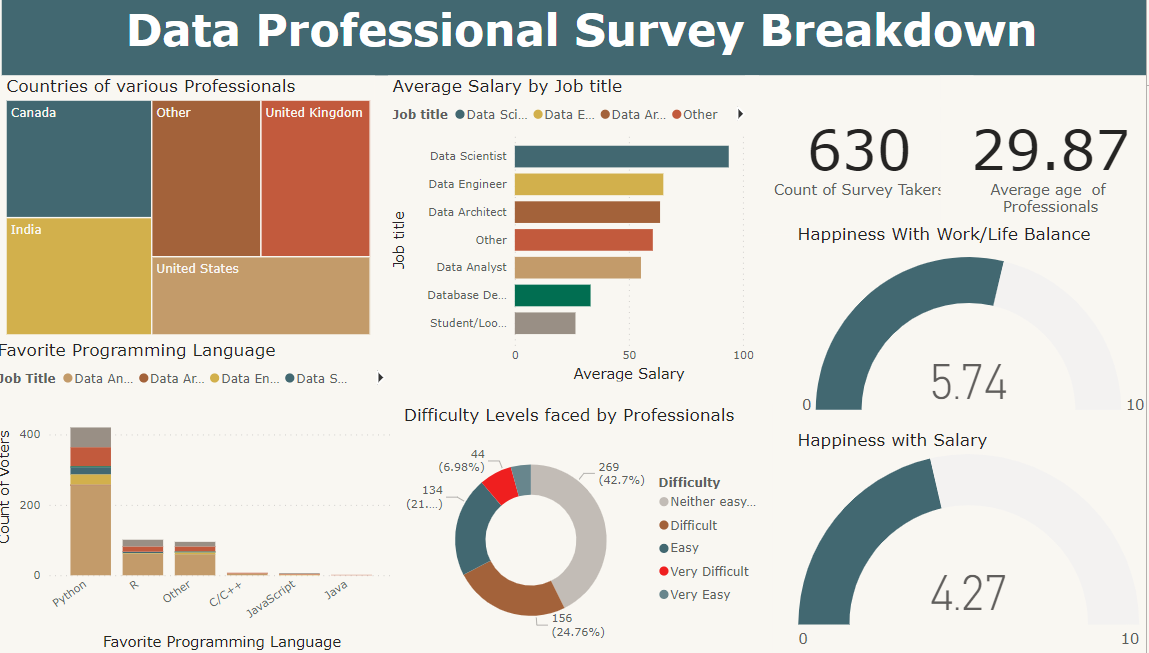

This screenshot's page, from the dashboard's own definition file:
{"tool":"powerbi","page":{"name":"Page 1","canvas":[1280,720],"ordinal":0},"visuals":[{"type":"textbox","box":[9.6,0,1270.7,85.1],"z":0},{"type":"card","fields":{"Values":["Count(Data Professional Survey.Unique ID)"]},"box":[824.7,85.1,249.7,174.3],"z":1000},{"type":"card","fields":{"Values":["Avg(Data Professional Survey.Q10 - Current Age)"]},"box":[1038.8,85.1,241.5,174.3],"z":2000},{"type":"barChart","title":"Average Salary by Job title","fields":{"Category":["Data Professional Survey.Q1 - Which Title Best Fits your Current Role?.1"],"Y":["Avg(Data Professional Survey.Average Salary)"],"Series":["Data Professional Survey.Q1 - Which Title Best Fits your Current Role?.1"]},"box":[432.2,85.1,406.2,340.3],"z":3000},{"type":"columnChart","title":"Favorite Programming Language","fields":{"Category":["Data Professional Survey.Q5 - Favorite Programming Language.1"],"Y":["CountNonNull(Data Professional Survey.Unique ID)"],"Series":["Data Professional Survey.Q1 - Which Title Best Fits your Current Role?.1"]},"box":[0,374.6,444.6,345.8],"z":4000},{"type":"treemap","title":"Countries of various Professionals","fields":{"Group":["Data Professional Survey.Q11 - Which Country do you live in?.1"],"Values":["Count(Data Professional Survey.Q11 - Which Country do you live in?.1)"]},"box":[9.6,85.1,408.9,289.5],"z":5000},{"type":"gauge","title":"Happiness with Salary","fields":{"Y":["Avg(Data Professional Survey.Q6 - How Happy are you in your Current Position with the following? (Salary))"],"MinValue":["Min(Data Professional Survey.Q6 - How Happy are you in your Current Position with the following? (Salary))"],"MaxValue":["Max(Data Professional Survey.Q6 - How Happy are you in your Current Position with the following? (Salary))"]},"box":[876.8,472,385.6,248.4],"z":6000},{"type":"gauge","title":"Happiness With Work/Life Balance","fields":{"Y":["Avg(Data Professional Survey.Q6 - How Happy are you in your Current Position with the following? (Work/Life Balance))"],"MinValue":["Min(Data Professional Survey.Q6 - How Happy are you in your Current Position with the following? (Work/Life Balance))"],"MaxValue":["Max(Data Professional Survey.Q6 - How Happy are you in your Current Position with the following? (Work/Life Balance))1"]},"box":[876.8,247,395.2,225],"z":6001},{"type":"donutChart","title":"Difficulty Levels faced by Professionals","fields":{"Category":["Data Professional Survey.Q7 - How difficult was it for you to break into Data?"],"Y":["CountNonNull(Data Professional Survey.Q7 - How difficult was it for you to break into Data?)"]},"box":[444.6,444.6,408.9,275.8],"z":6002}]}

Visuals, with their boxes in screenshot pixels (x1, y1, x2, y2), scaled from the page's 1280x720 canvas onto the 1149x653 screenshot:
textbox: left=9, top=0, right=1148, bottom=77
card - Count(Data Professional Survey.Unique ID): left=740, top=77, right=964, bottom=235
card - Avg(Data Professional Survey.Q10 - Current Age): left=932, top=77, right=1148, bottom=235
"Average Salary by Job title" barChart: left=388, top=77, right=753, bottom=386
"Favorite Programming Language" columnChart: left=0, top=340, right=399, bottom=652
"Countries of various Professionals" treemap: left=9, top=77, right=376, bottom=340
"Happiness with Salary" gauge: left=787, top=428, right=1133, bottom=652
"Happiness With Work/Life Balance" gauge: left=787, top=224, right=1142, bottom=428
"Difficulty Levels faced by Professionals" donutChart: left=399, top=403, right=766, bottom=652
